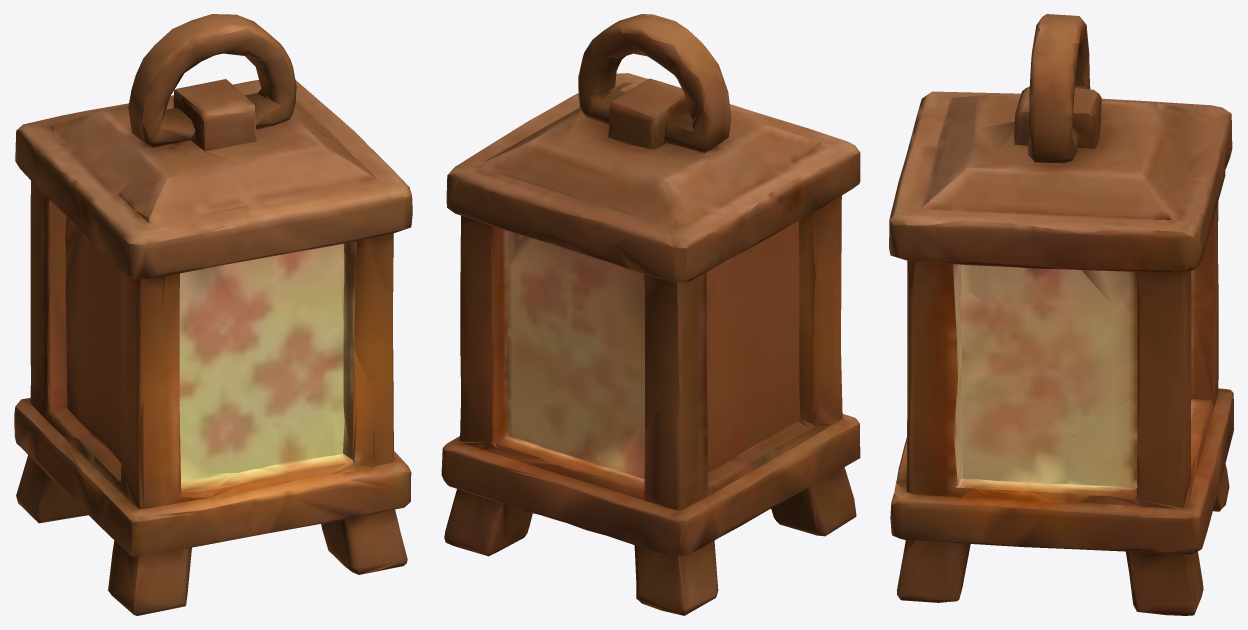
File: deco47.glb
3 renders of one model, left to right at view 1: azimuth 30°, elevation 25°; view 2: azimuth 150°, elevation 25°; view 3: azimuth 270°, elevation 25°, orthographic. The views are drawn at different scales.
Size of the model in its own units: 0.1394 by 0.2335 by 0.1397.
1 material, 1 textured.
